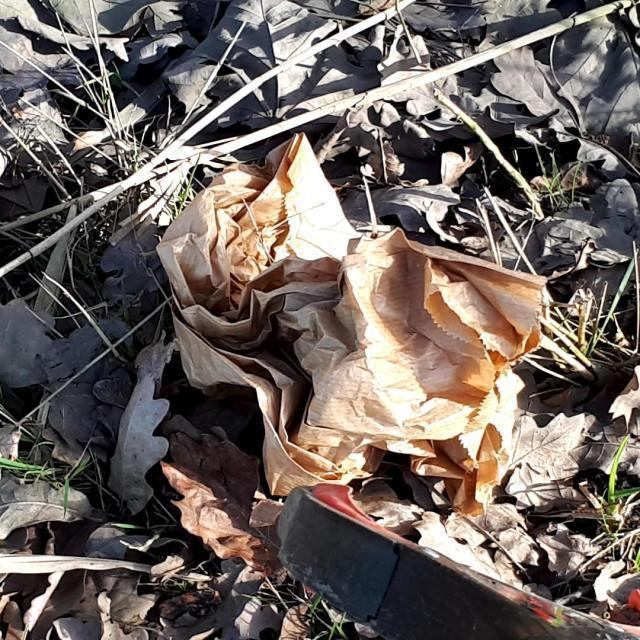Paper: (155, 127, 552, 521)
